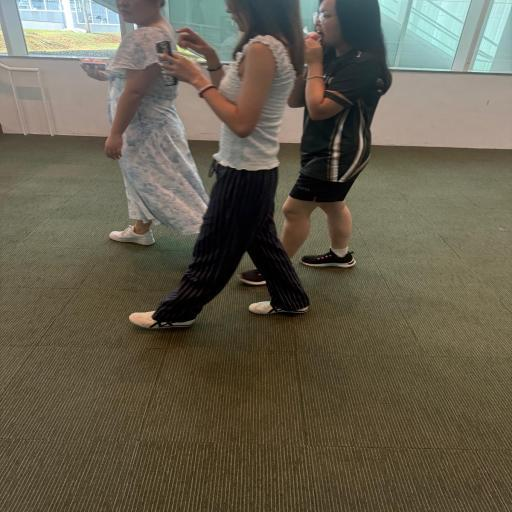person_left: (128, 0, 310, 330), (239, 0, 392, 285), (78, 0, 210, 246)
